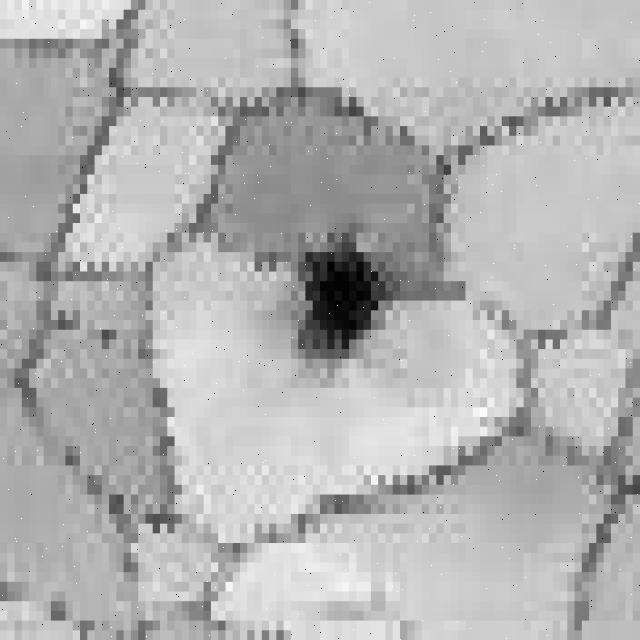good_void: (284, 231, 409, 380), (91, 320, 119, 349)
